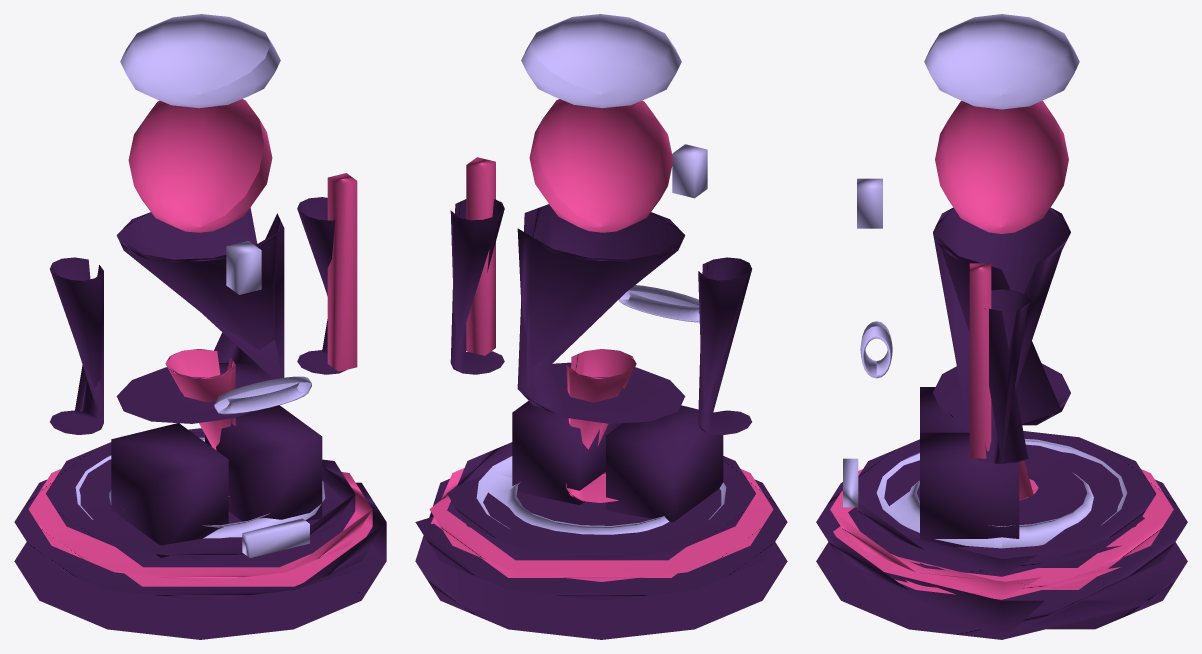
The model's file is idol_core.glb.
3 renders of one model, left to right at view 1: azimuth 30°, elevation 25°; view 2: azimuth 150°, elevation 25°; view 3: azimuth 270°, elevation 25°, orthographic.
Parts seen in each view (by area): view 1: idol_core_#3D184F, idol_core_#EC4899, idol_core_#C4B5FD; view 2: idol_core_#3D184F, idol_core_#EC4899, idol_core_#C4B5FD; view 3: idol_core_#3D184F, idol_core_#EC4899, idol_core_#C4B5FD.
Part boxes in pixels (<box>): idol_core_#3D184F: <box>14,197,386,639</box>; idol_core_#EC4899: <box>28,99,372,586</box>; idol_core_#C4B5FD: <box>75,14,325,557</box>; idol_core_#3D184F: <box>415,199,787,639</box>; idol_core_#EC4899: <box>429,99,773,581</box>; idol_core_#C4B5FD: <box>476,14,726,534</box>; idol_core_#3D184F: <box>816,207,1187,639</box>; idol_core_#EC4899: <box>830,100,1173,599</box>; idol_core_#C4B5FD: <box>843,14,1127,548</box>.
Bounding box in the file's own units: 1.72 × 2.72 × 1.72.
